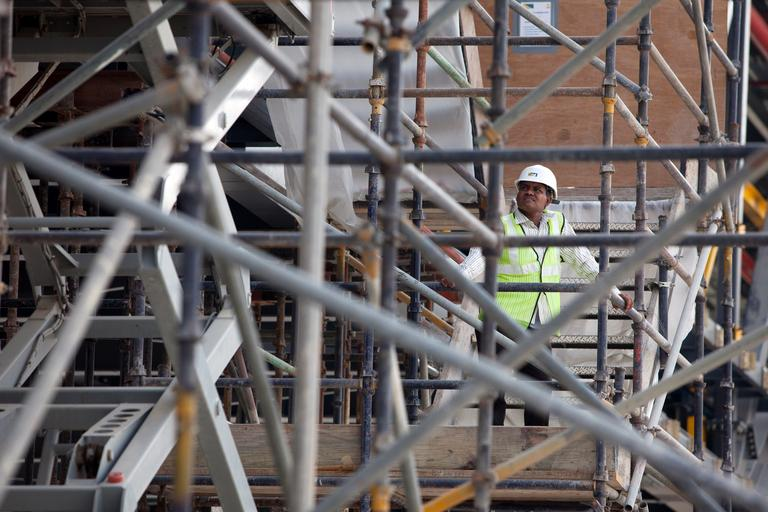Hard Hat: (510, 165, 564, 221)
Person: (496, 166, 592, 437)
Vest: (498, 184, 569, 332)
